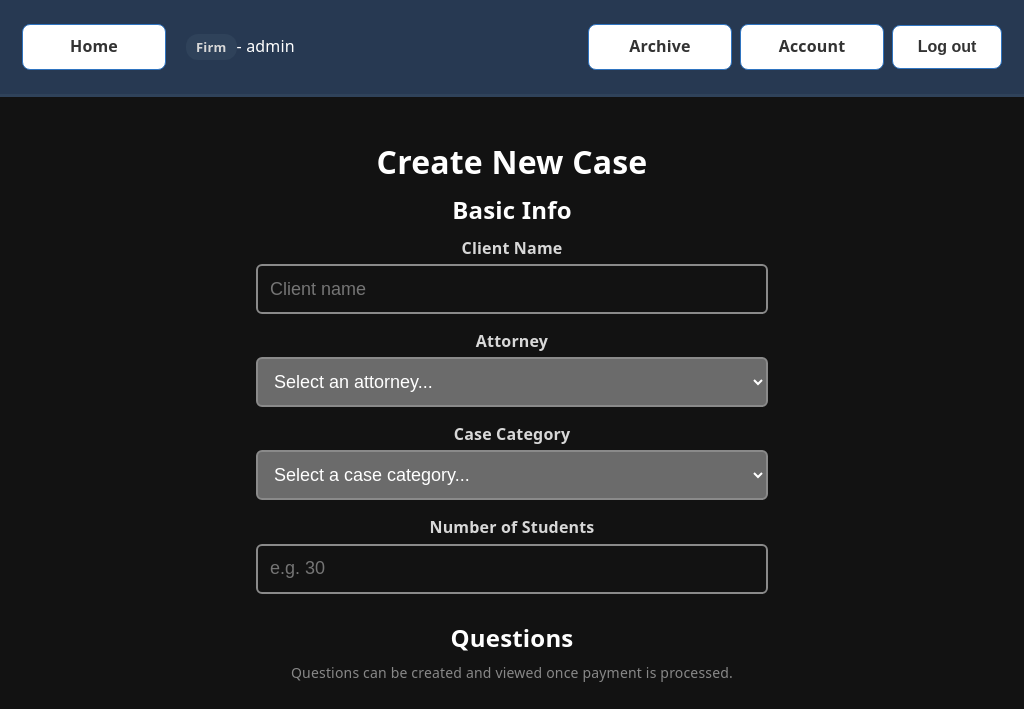
CreateCaseScreen › asks for confirmation with the case summary and a payment warning
Type "Jane Client" into the field with placeholder "Client Name" at (512, 289), box [256,264,768,314]
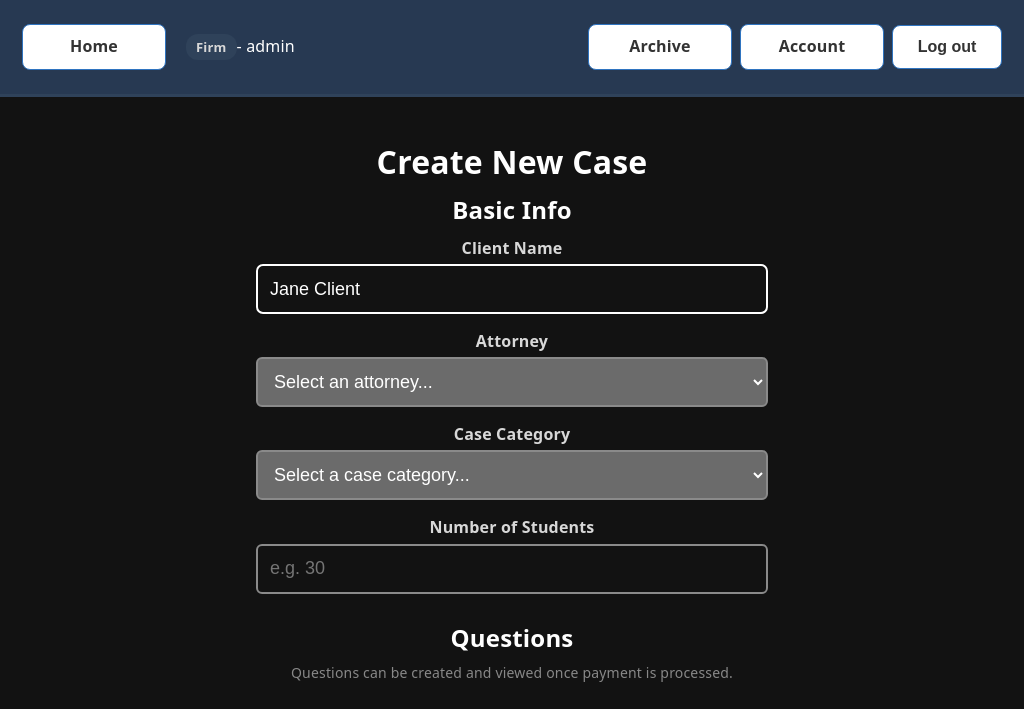
Select "bob" in the dropdown labelled "Attorney" at (512, 382), box [256,357,768,407]
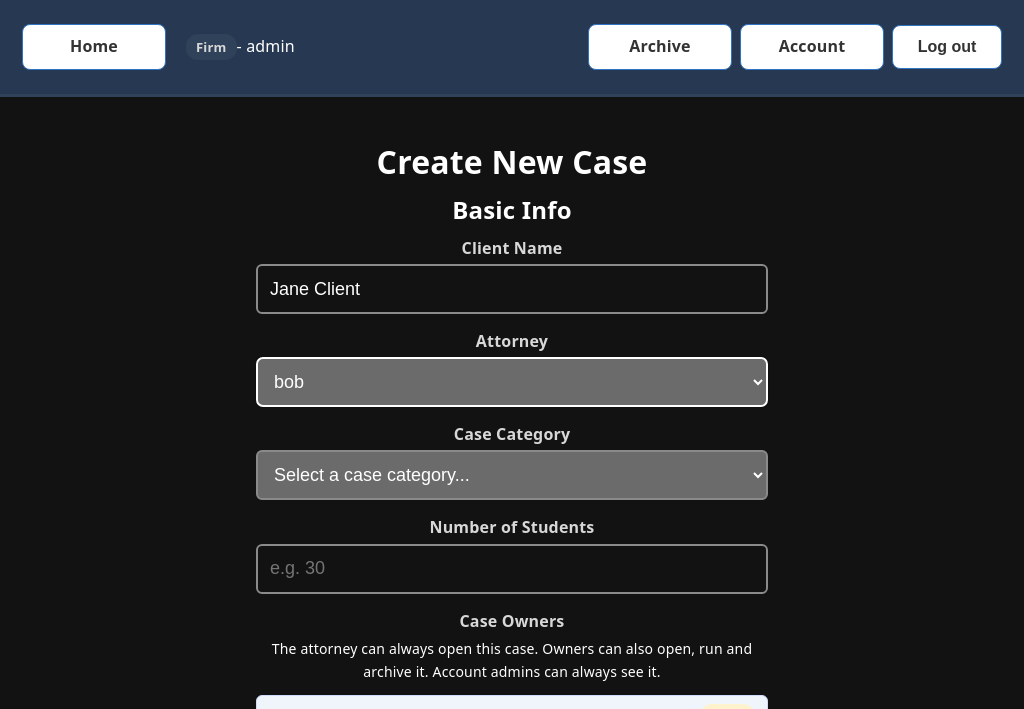
Select "Theft" in the dropdown labelled "Case Category" at (512, 476), box [256,450,768,500]
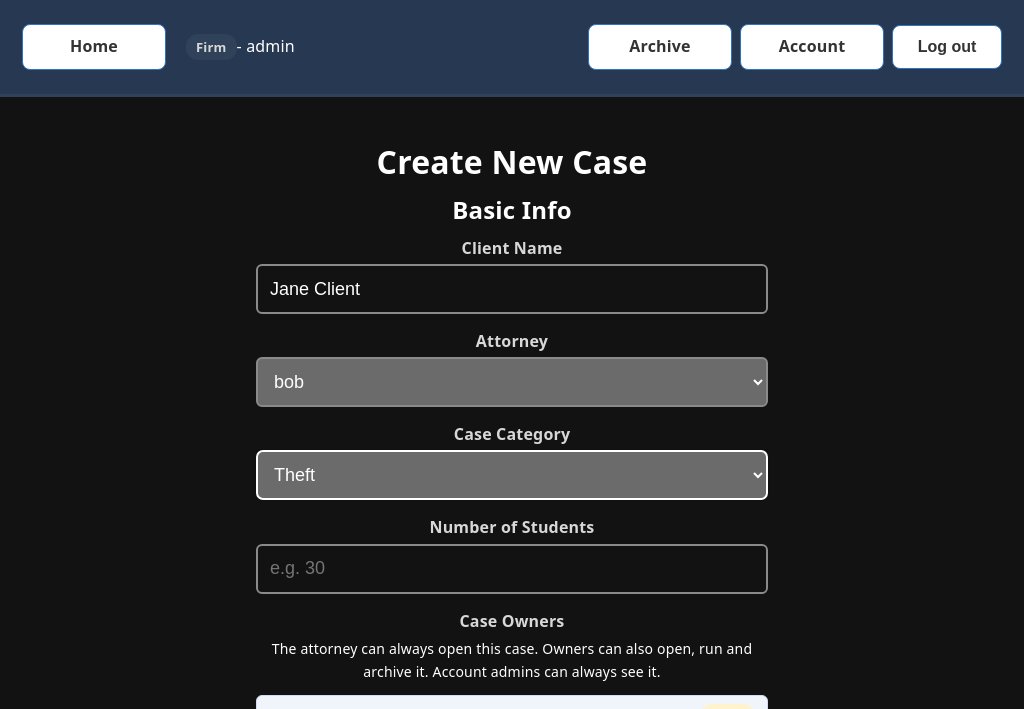
Type "12" into the number field with placeholder "e.g. 30" at (512, 569), box [256,544,768,594]
(page scrolled)
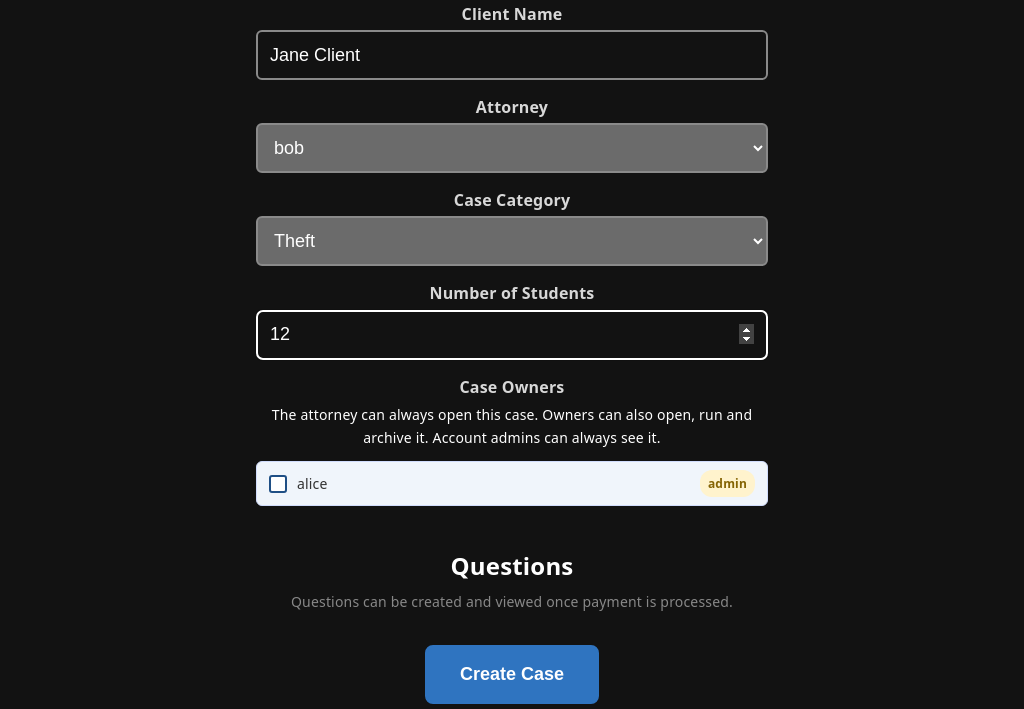
Click the button "Create Case" at (512, 674), box [425,645,599,704]
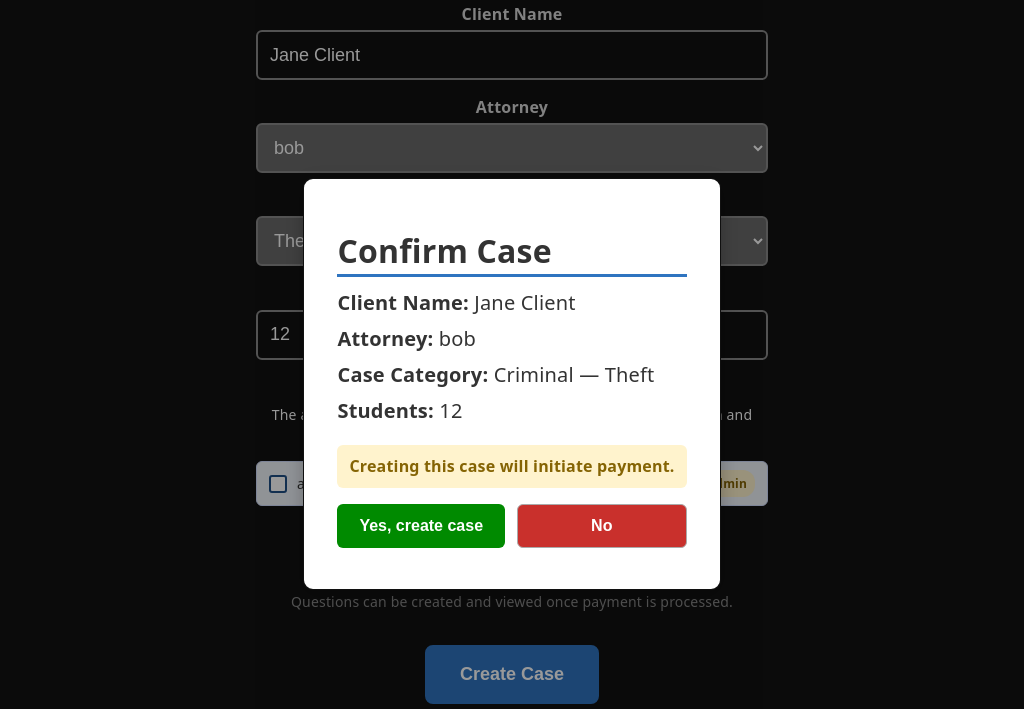
Result: the heading "Confirm Case" is shown at [338,239,687,277]
Result: the text "Creating this case will initiate payment." is shown at [338,445,687,488]
Result: the text "Jane Client" is shown at [474,289,576,316]
